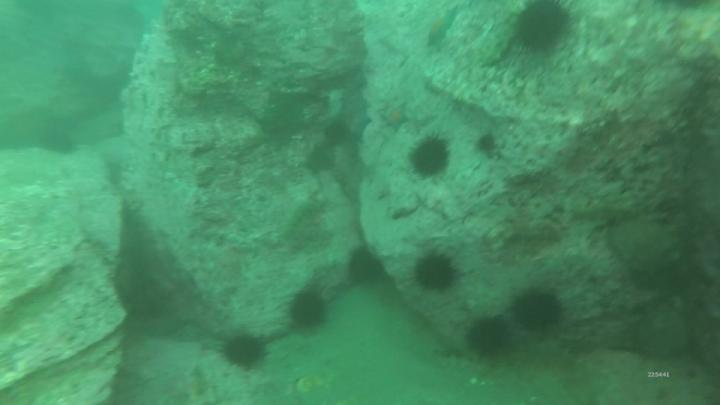echinus: (519, 1, 569, 50), (467, 321, 513, 360), (514, 295, 563, 330), (289, 290, 329, 327), (418, 255, 457, 292), (410, 142, 450, 174), (223, 337, 265, 366), (351, 250, 384, 285), (43, 133, 72, 155)
starfish: (429, 15, 453, 46), (381, 109, 411, 131)
